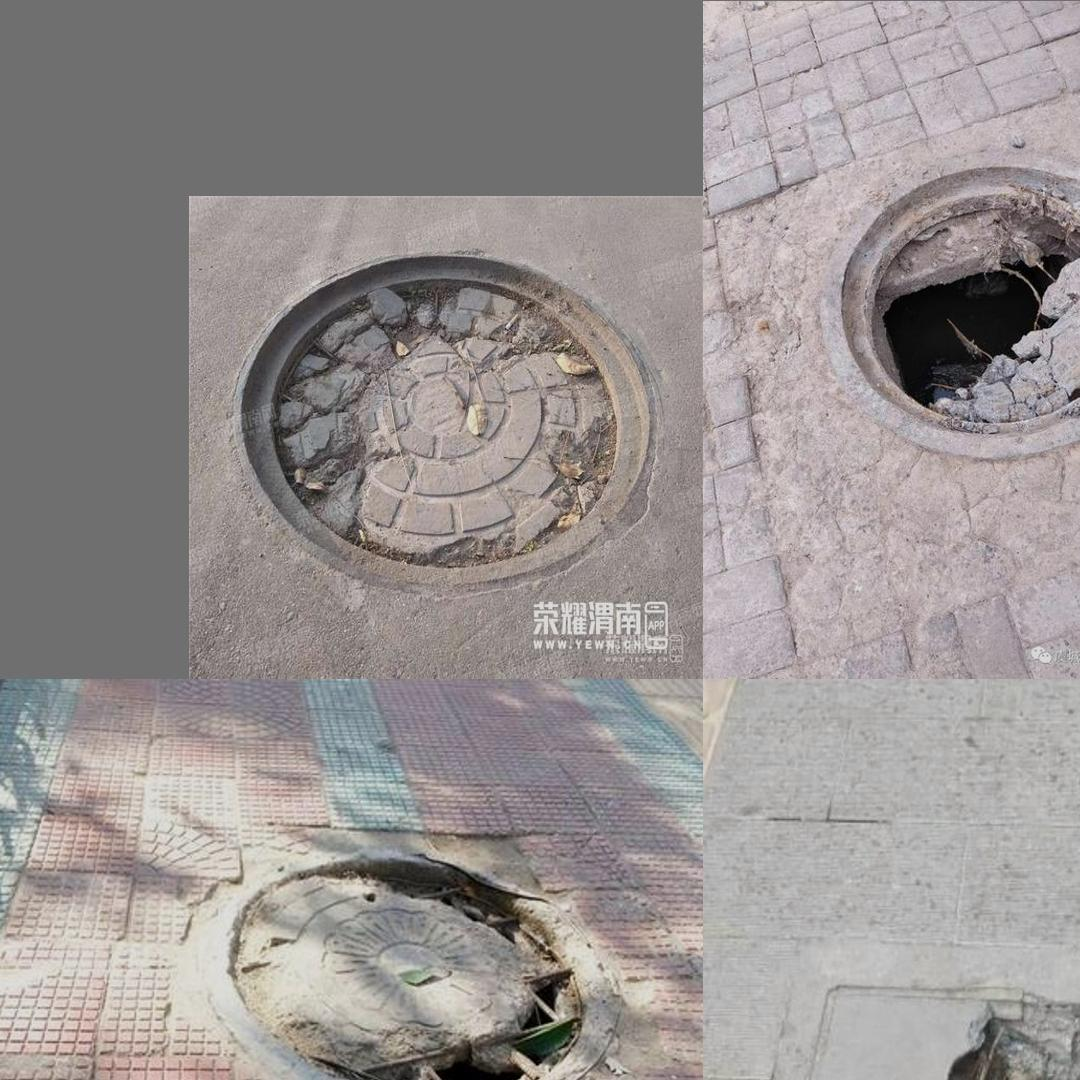broke: (224, 242, 664, 589), (768, 131, 1080, 472), (191, 838, 617, 1080), (732, 956, 1080, 1080)
